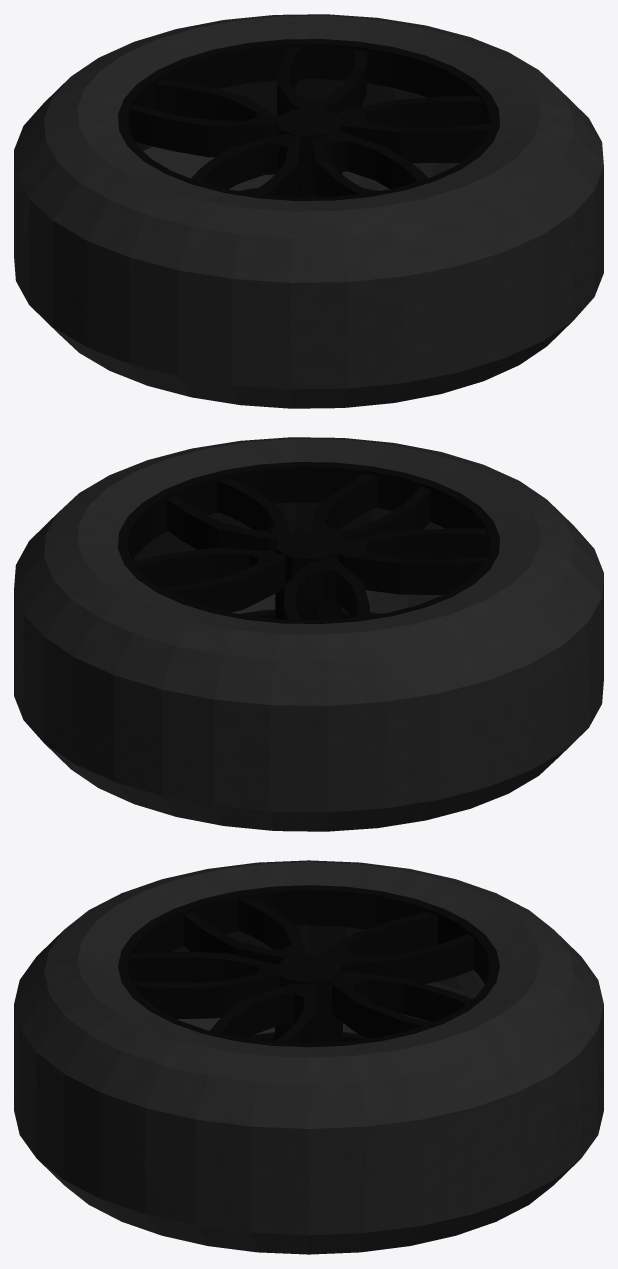
The model's file is rueda.obj.
The picture shows the model from 3 angles, top to bottom: view 1: azimuth 30°, elevation 25°; view 2: azimuth 150°, elevation 25°; view 3: azimuth 270°, elevation 25°; orthographic projection.
Parts seen in each view (by area): view 1: Circle, Circle.002_Circle.003, Cube.016_Cube.041, Cube.013_Cube.038, Cube.012_Cube.037, Cube.017_Cube.042, Cube.010_Cube.035, Cube.019_Cube.044, Plane, Cube.011_Cube.036, Cube.018_Cube.043, Cube.015_Cube.040 (+1 smaller); view 2: Circle, Circle.002_Circle.003, Cube.019_Cube.044, Cube.018_Cube.043, Cube.014_Cube.039, Cube.015_Cube.040, Cube.012_Cube.037, Plane, Cube.013_Cube.038, Cube.010_Cube.035, Cube.011_Cube.036, Cube.016_Cube.041 (+1 smaller); view 3: Circle, Circle.002_Circle.003, Cube.010_Cube.035, Cube.017_Cube.042, Cube.011_Cube.036, Cube.014_Cube.039, Cube.016_Cube.041, Plane, Cube.015_Cube.040, Cube.013_Cube.038, Cube.019_Cube.044, Cube.018_Cube.043 (+1 smaller).
Boxes of the visible parts, <box> form: Circle: <box>14,14,603,408</box>; Circle.002_Circle.003: <box>118,39,499,200</box>; Cube.016_Cube.041: <box>131,104,277,157</box>; Cube.013_Cube.038: <box>340,117,489,163</box>; Cube.012_Cube.037: <box>337,96,482,127</box>; Cube.017_Cube.042: <box>155,79,277,121</box>; Cube.010_Cube.035: <box>326,129,428,188</box>; Cube.019_Cube.044: <box>191,133,288,189</box>; Plane: <box>275,108,342,197</box>; Cube.011_Cube.036: <box>311,136,371,196</box>; Cube.018_Cube.043: <box>250,134,300,197</box>; Cube.015_Cube.040: <box>308,49,367,114</box>; Circle: <box>14,437,603,831</box>; Circle.002_Circle.003: <box>118,462,499,623</box>; Cube.019_Cube.044: <box>339,548,487,594</box>; Cube.018_Cube.043: <box>340,528,487,559</box>; Cube.014_Cube.039: <box>160,554,285,612</box>; Cube.015_Cube.040: <box>133,547,280,587</box>; Cube.012_Cube.037: <box>167,494,280,551</box>; Plane: <box>275,531,342,620</box>; Cube.013_Cube.038: <box>217,478,290,537</box>; Cube.010_Cube.035: <box>311,474,377,533</box>; Cube.011_Cube.036: <box>328,486,431,540</box>; Cube.016_Cube.041: <box>321,557,369,617</box>; Circle: <box>14,860,603,1254</box>; Circle.002_Circle.003: <box>118,885,499,1047</box>; Cube.010_Cube.035: <box>131,970,280,1018</box>; Cube.017_Cube.042: <box>334,934,474,983</box>; Cube.011_Cube.036: <box>130,952,277,982</box>; Cube.014_Cube.039: <box>337,971,471,1022</box>; Cube.016_Cube.041: <box>322,912,437,957</box>; Plane: <box>275,954,342,1043</box>; Cube.015_Cube.040: <box>332,977,432,1038</box>; Cube.013_Cube.038: <box>210,984,304,1038</box>; Cube.019_Cube.044: <box>238,897,306,956</box>; Cube.018_Cube.043: <box>184,911,293,964</box>.
Bounding box in the file's own units: 0.49 × 0.1789 × 0.49.
3 materials, 3 textured.
